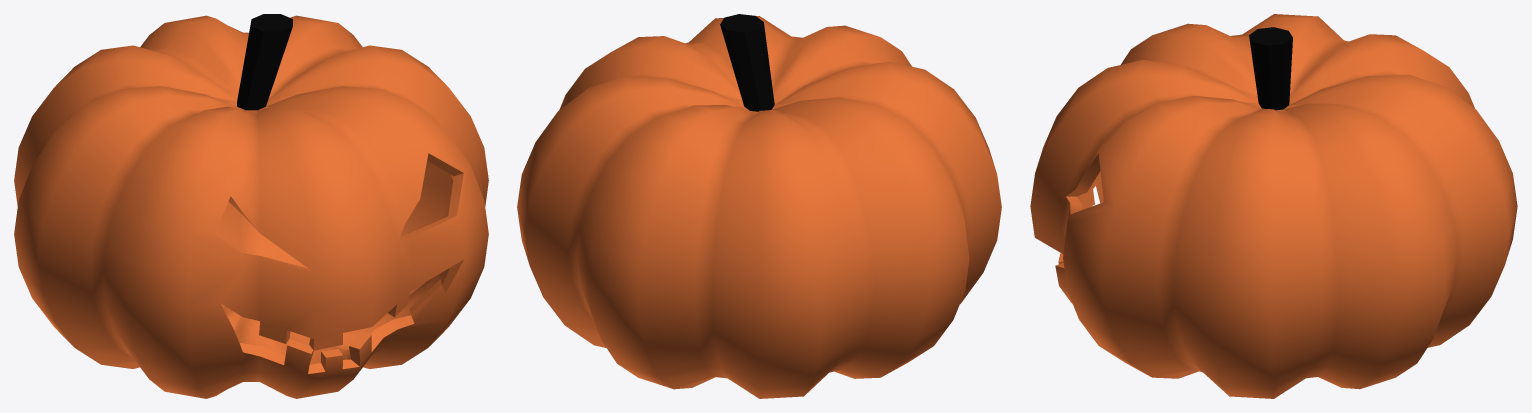
File: pumkin2.glb
The picture shows the model from 3 angles, left to right: view 1: azimuth 30°, elevation 25°; view 2: azimuth 150°, elevation 25°; view 3: azimuth 270°, elevation 25°; orthographic projection.
Parts seen in each view (by area): view 1: Pumpkin; view 2: Pumpkin; view 3: Pumpkin.
Part boxes in pixels (bbox=[...]): Pumpkin: bbox=[14, 14, 488, 398]; Pumpkin: bbox=[517, 14, 1001, 398]; Pumpkin: bbox=[1030, 14, 1517, 398].
Bounding box in the file's own units: 2 × 1.41 × 2.
